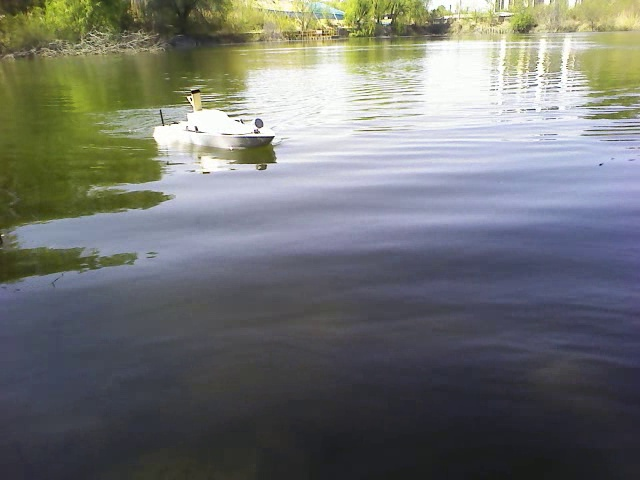boat: (153, 93, 279, 153)
